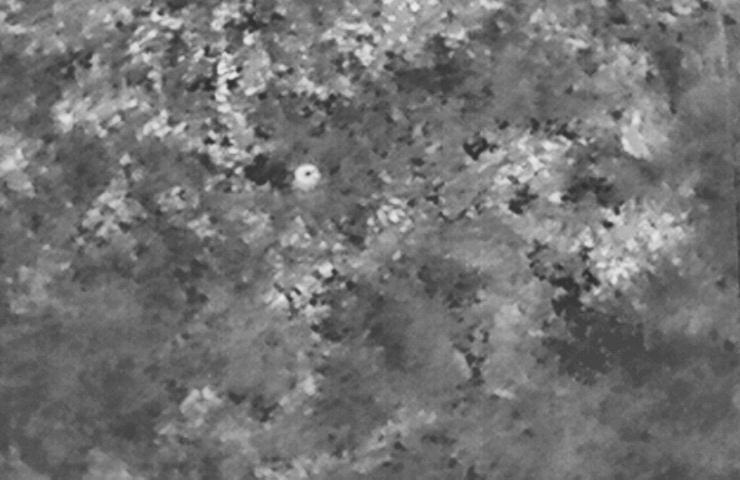landmines: (290, 162, 325, 194)
